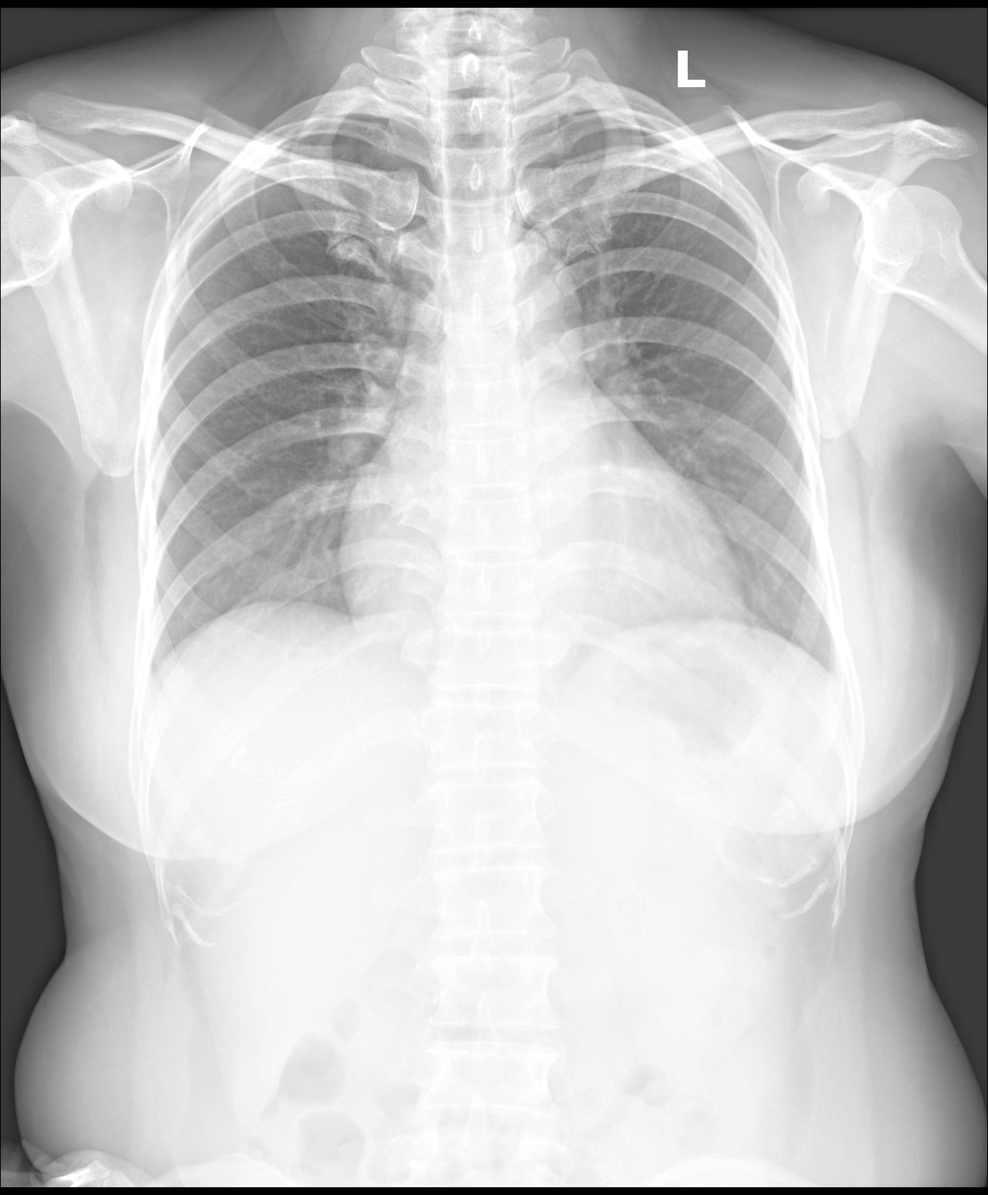Aortic enlargement: (429, 247, 578, 383)
Cardiomegaly: (331, 502, 759, 649)
